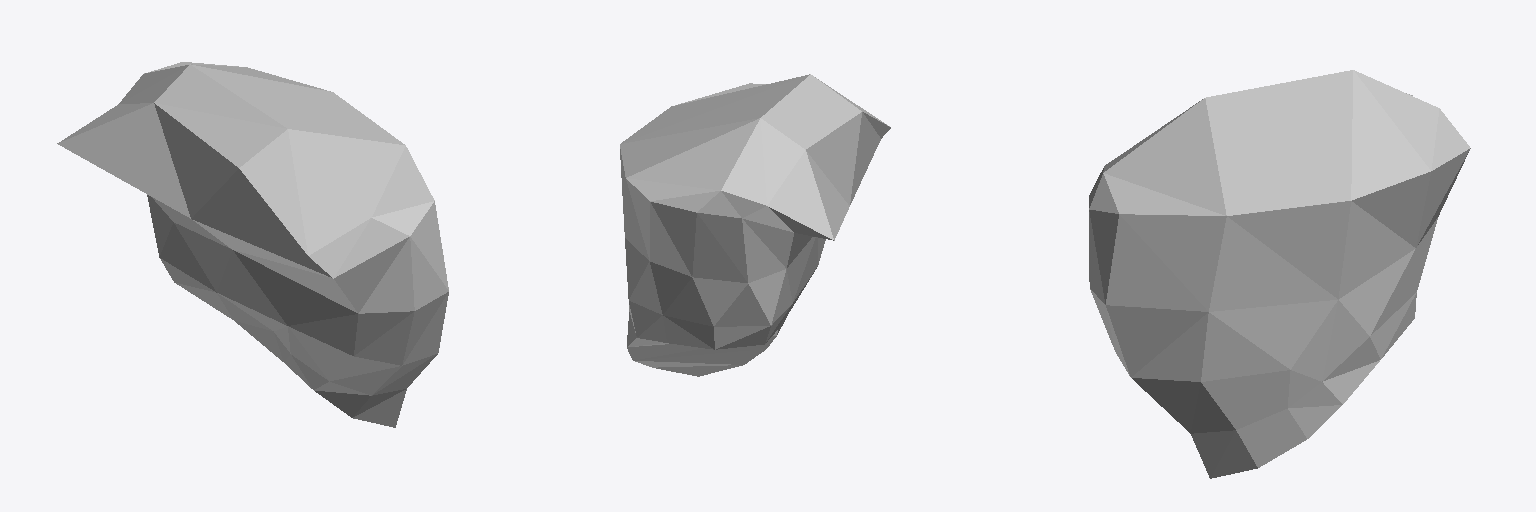
Rendered from pieDer1.obj.
The picture shows the model from 3 angles: view 1: azimuth 30°, elevation 25°; view 2: azimuth 150°, elevation 25°; view 3: azimuth 270°, elevation 25°; orthographic projection.
Visible parts, largest first — view 1: polySurface6 polySurface5 polySurface2 Mesh; view 2: polySurface6 polySurface5 polySurface2 Mesh; view 3: polySurface6 polySurface5 polySurface2 Mesh.
Boxes of the visible parts, box(x1,y1,x2,y2) form: polySurface6 polySurface5 polySurface2 Mesh: box(57, 62, 448, 427); polySurface6 polySurface5 polySurface2 Mesh: box(620, 74, 890, 376); polySurface6 polySurface5 polySurface2 Mesh: box(1089, 70, 1470, 478).
Bounding box in the file's own units: 0.2242 × 0.2775 × 0.2792.